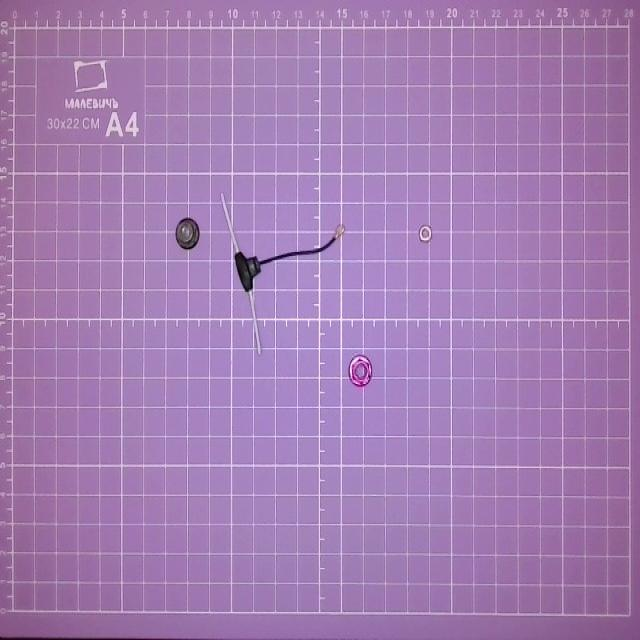antenna: (218, 190, 344, 357)
screw_M3: (418, 223, 434, 243)
screw_M5: (169, 216, 208, 252), (347, 354, 373, 385)
